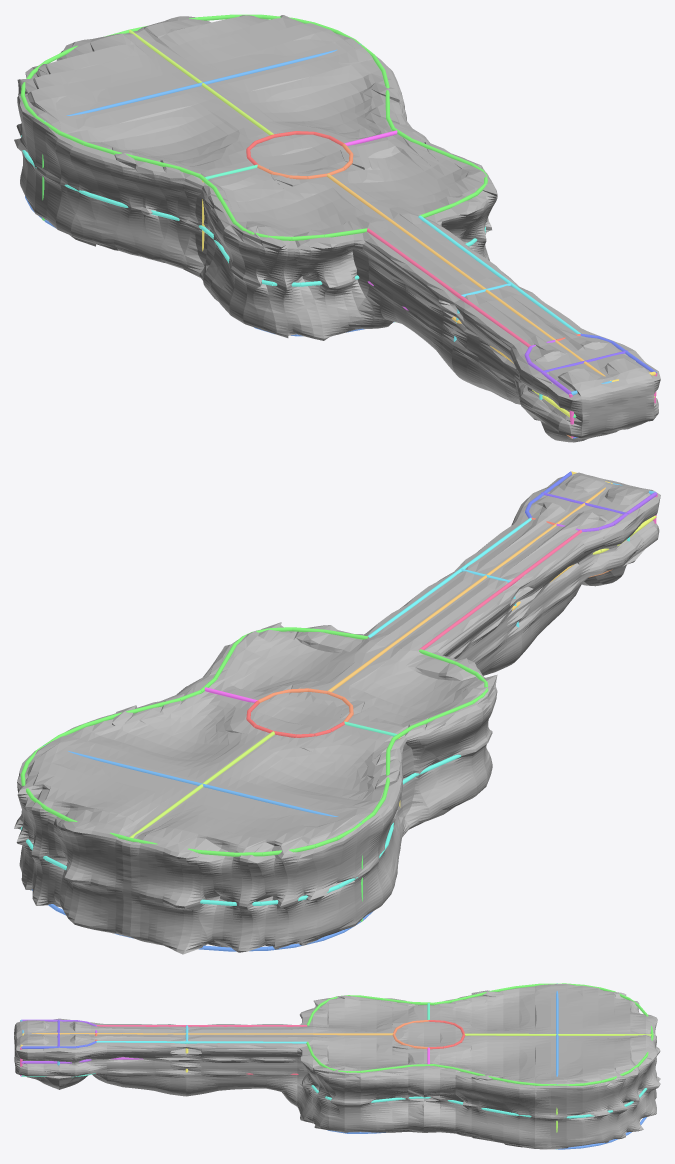
The model's file is t2f_guitar.gltf.
The picture shows the model from 3 angles, top to bottom: view 1: azimuth 30°, elevation 25°; view 2: azimuth 150°, elevation 25°; view 3: azimuth 270°, elevation 25°; orthographic projection. The views are drawn at different scales.
Bounding box in the file's own units: 0.3651 × 0.1193 × 0.9532.
